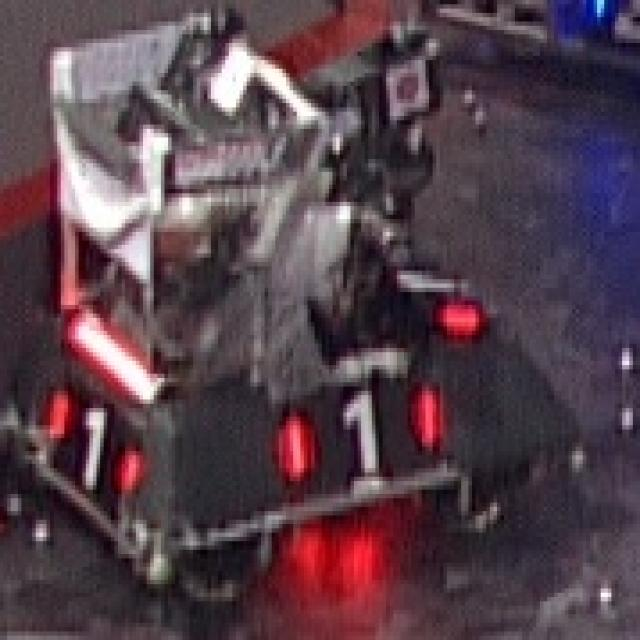R1: (279, 386, 440, 476), (39, 387, 147, 498)
